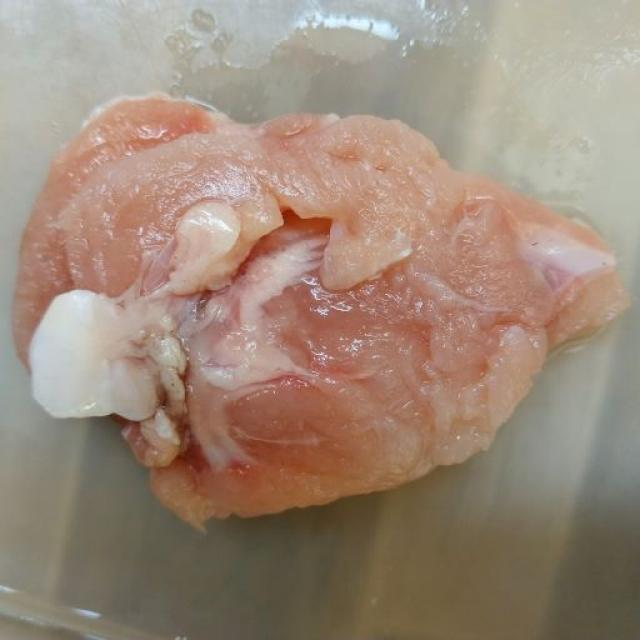Chicken: (4, 80, 636, 546)
